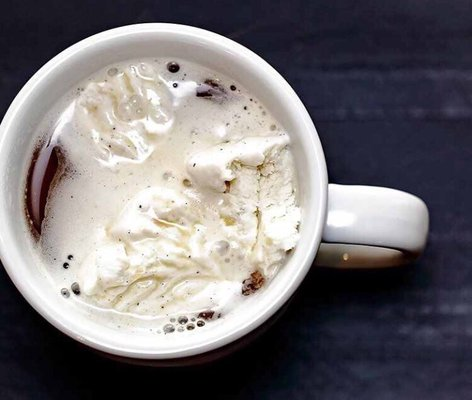sushi: (3, 21, 329, 367)
